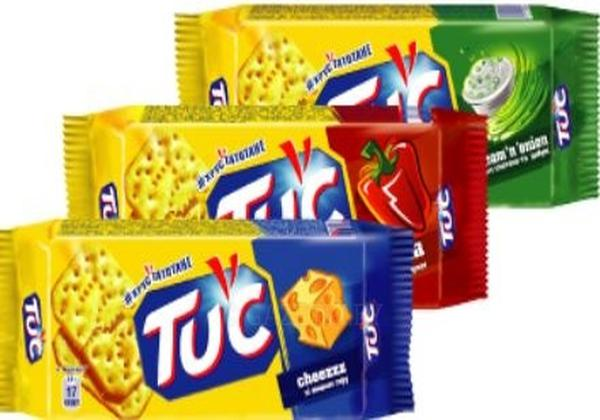crackers tuc: (18, 228, 392, 416)
